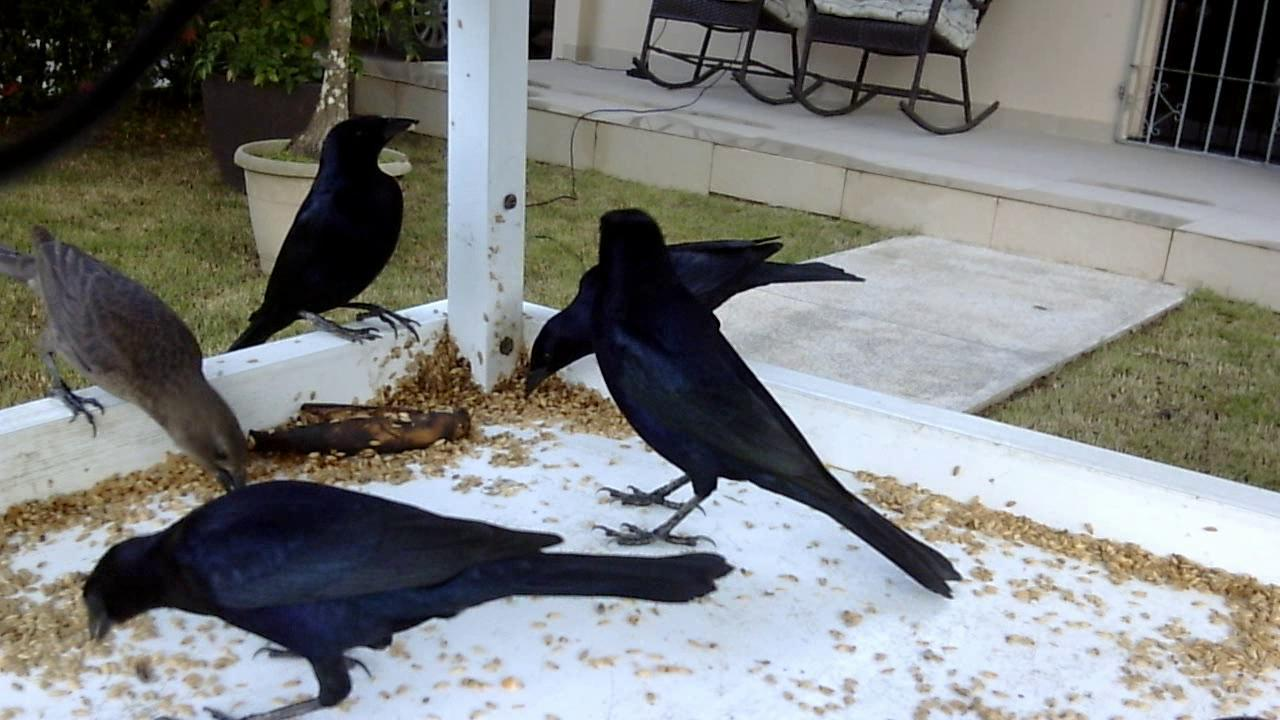chupim: (78, 449, 740, 720), (590, 208, 975, 603), (1, 214, 267, 515), (516, 232, 870, 413), (223, 118, 431, 356)
